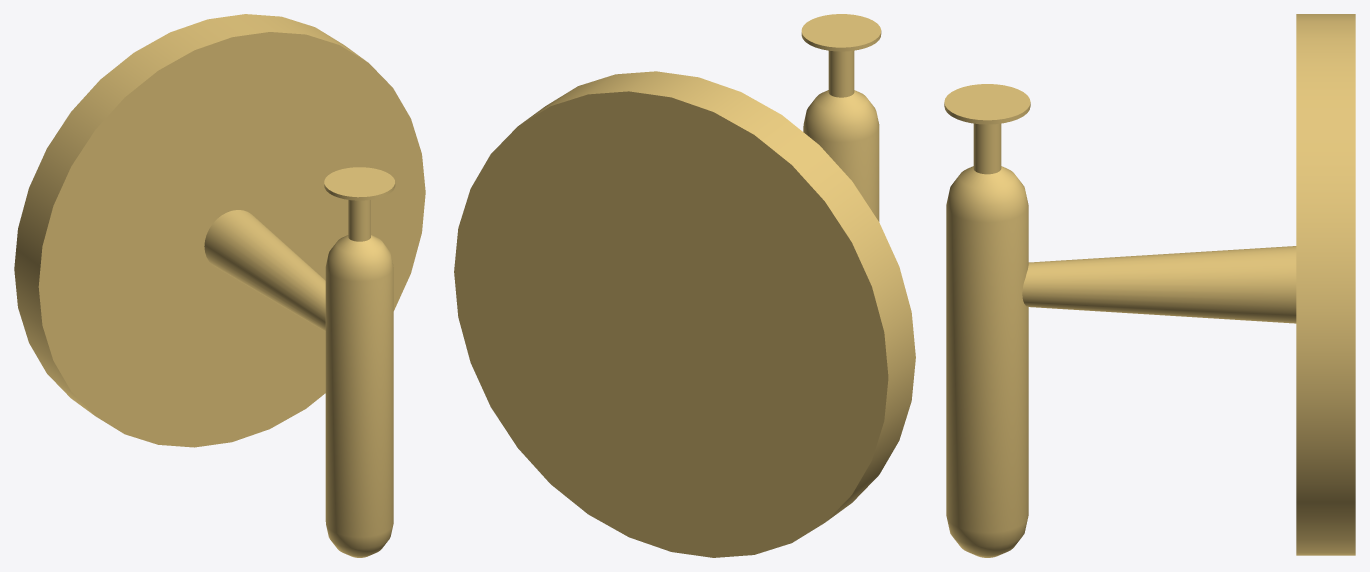
The model's file is Soporte.fbx.
The picture shows the model from 3 angles, left to right: view 1: azimuth 30°, elevation 25°; view 2: azimuth 150°, elevation 25°; view 3: azimuth 270°, elevation 25°; orthographic projection. The views are drawn at different scales.
Visible parts, largest first — view 1: Lampara puerta; view 2: Lampara puerta; view 3: Lampara puerta.
Boxes of the visible parts, x1=… form: Lampara puerta: x1=14, y1=14, x2=425, y2=557; Lampara puerta: x1=454, y1=14, x2=915, y2=557; Lampara puerta: x1=944, y1=14, x2=1355, y2=557.
Bounding box in the file's own units: 22 × 23.1 × 16.69.
